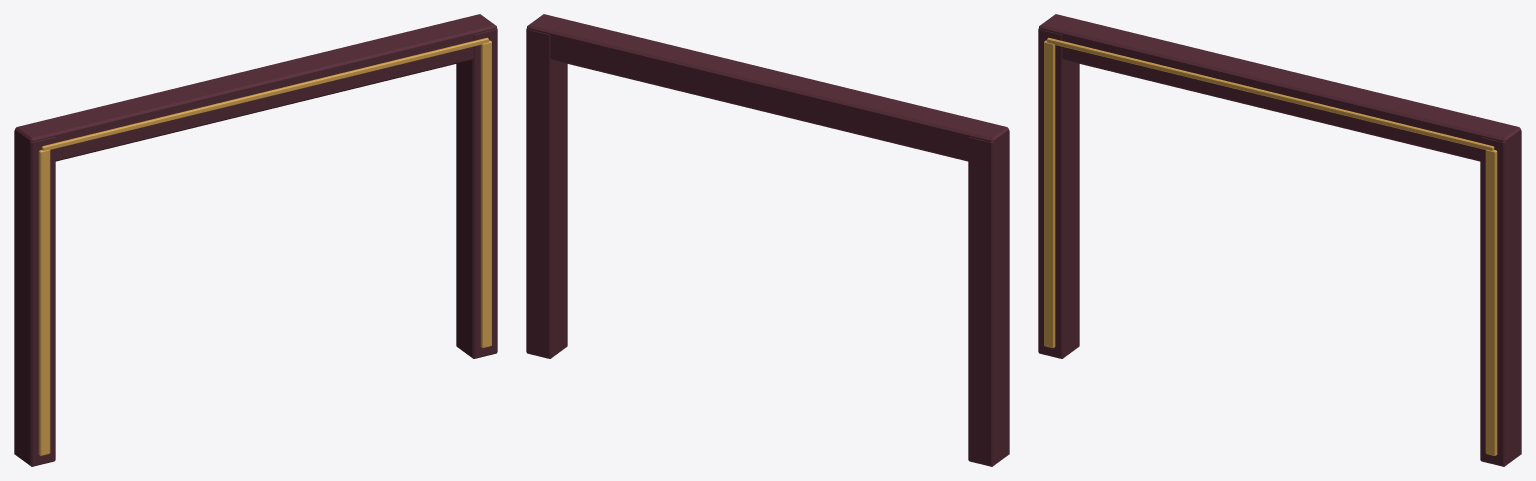
The model's file is stage_portal.glb.
The picture shows the model from 3 angles, left to right: view 1: azimuth 30°, elevation 25°; view 2: azimuth 150°, elevation 25°; view 3: azimuth 330°, elevation 25°; orthographic projection.
Parts seen in each view (by area): view 1: Cabeceira, Detalhe; view 2: Cabeceira; view 3: Cabeceira, Detalhe.
Boxes of the visible parts, x1,y1,x2,y2 form: Cabeceira: (14,14,497,466); Detalhe: (38,37,491,455); Cabeceira: (526,14,1009,466); Cabeceira: (1038,14,1521,466); Detalhe: (1044,37,1497,455).
Size of the model in its own units: 5.16 by 3.46 by 0.37.
